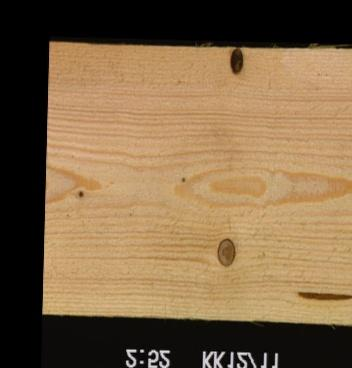dry_knot: (214, 236, 235, 268)
small_knot: (175, 170, 190, 187), (75, 185, 85, 200)
